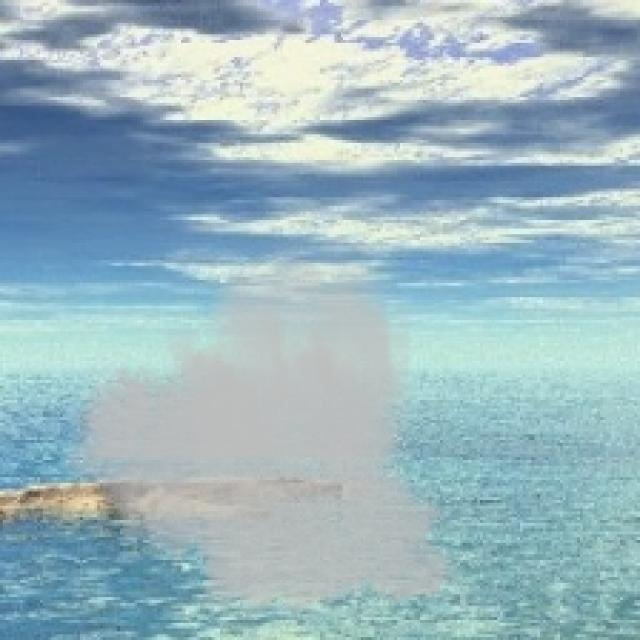smoke: (52, 240, 474, 629)
